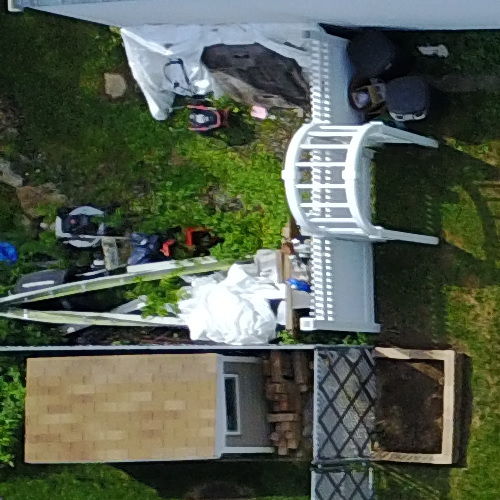clutter: (1, 194, 321, 348)
trash bin: (385, 64, 445, 128), (336, 27, 403, 76)
